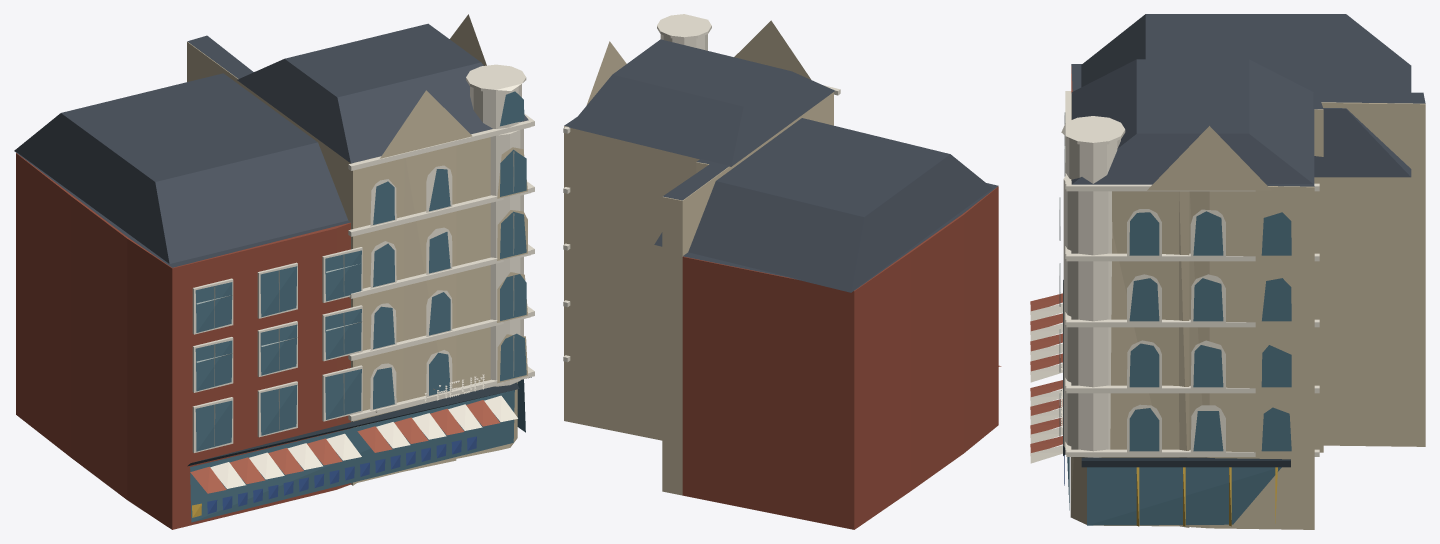
File: athenaeum.lod1.glb
3 views of the same model, side by side, from view 1: azimuth 30°, elevation 25°; view 2: azimuth 150°, elevation 25°; view 3: azimuth 270°, elevation 25° (orthographic). The views are drawn at different scales.
Visible parts, largest first — view 1: athenaeum; view 2: athenaeum; view 3: athenaeum.
Boxes of the visible parts, box(x1,y1,x2,y2) form: athenaeum: box(14, 14, 534, 529); athenaeum: box(563, 14, 1001, 529); athenaeum: box(1030, 14, 1425, 529).
Size of the model in its own units: 20.45 by 20.21 by 17.93.
